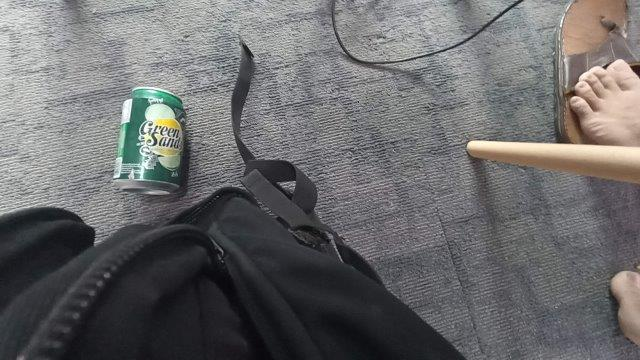kaleng: (113, 86, 184, 195)
